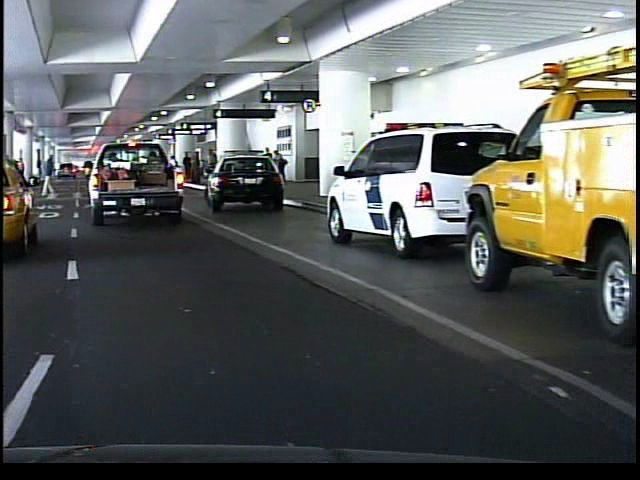person: (39, 151, 55, 200)
